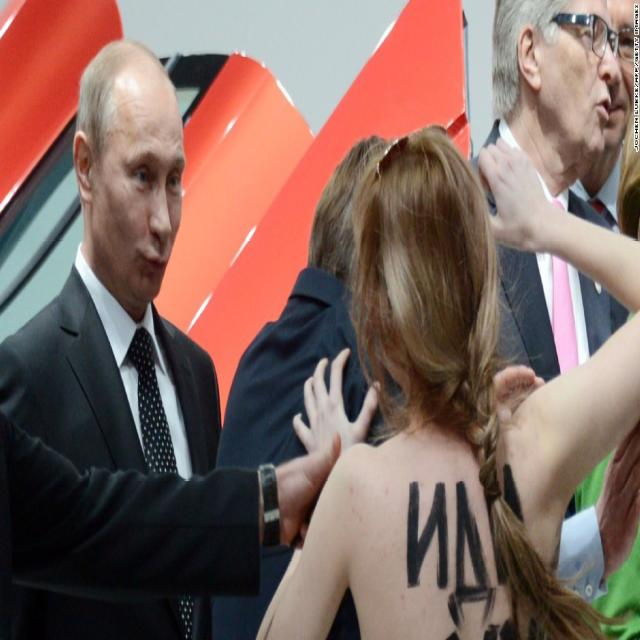body: (250, 119, 640, 639), (252, 132, 639, 639), (1, 340, 640, 639), (0, 35, 235, 639), (460, 0, 630, 406), (577, 0, 639, 234)
